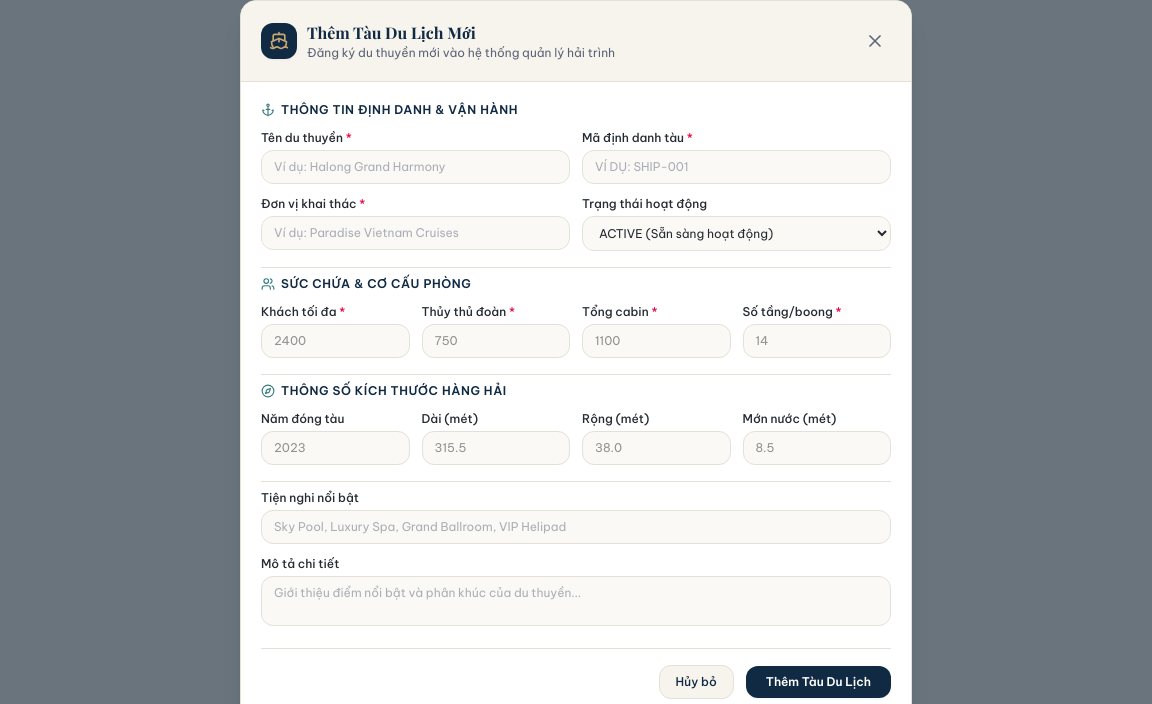
Test: ShipFormModal Component Tests › clears validation error when user modifies an invalid field
Step 1. Click the button "Thêm Tàu Du Lịch" → (818, 682), box 746,666 -> 891,698
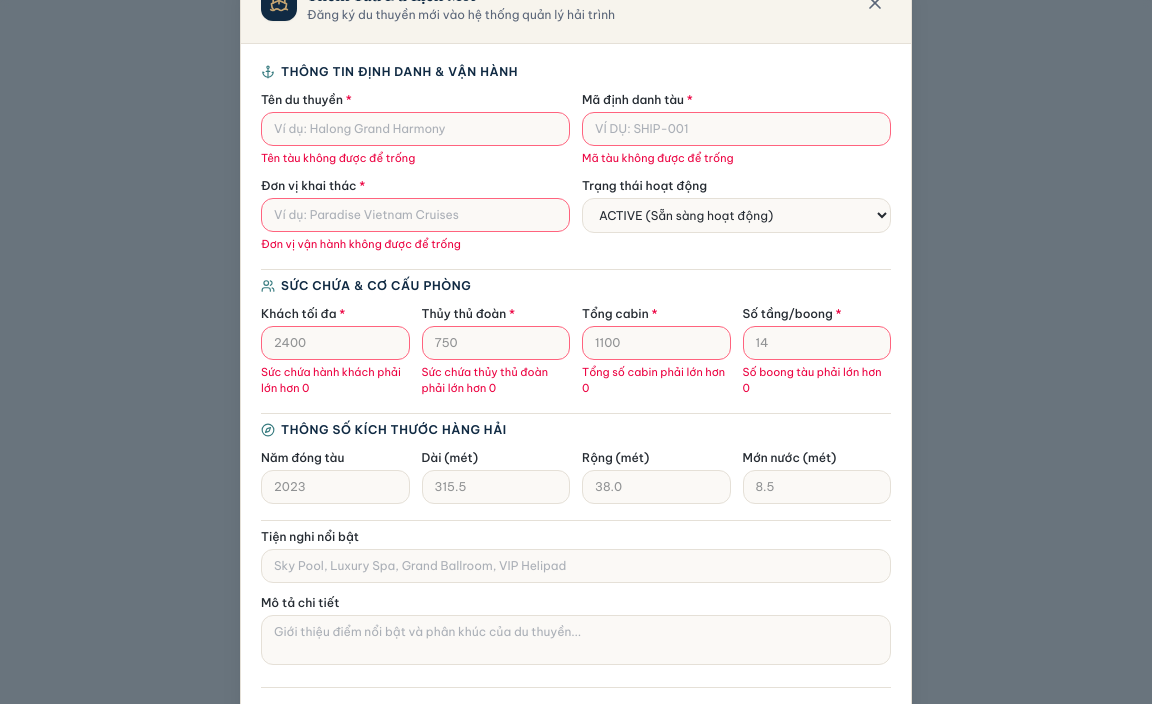
Check: the text "Tên tàu không được để trống" is shown, box 261,150 -> 415,164
Step 2. Type "Sea" into the field labelled "Tên du thuyền *" → (416, 128), box 261,112 -> 570,146
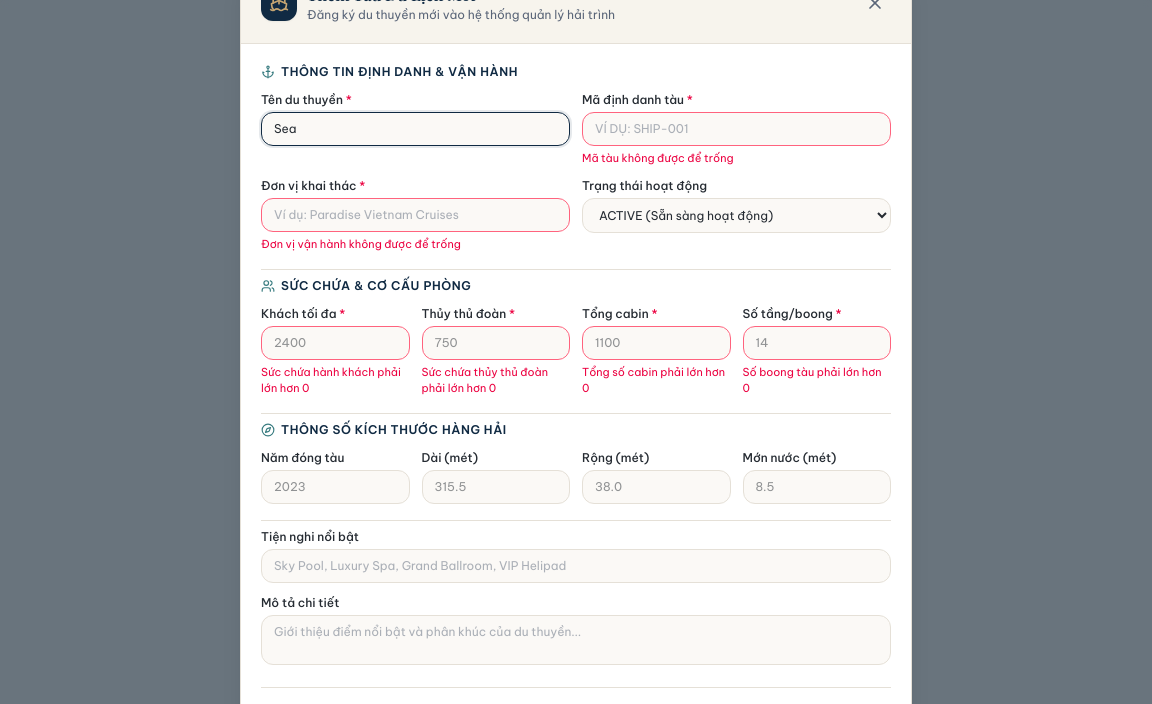
Check: the text "Tên tàu không được để trống" is gone
